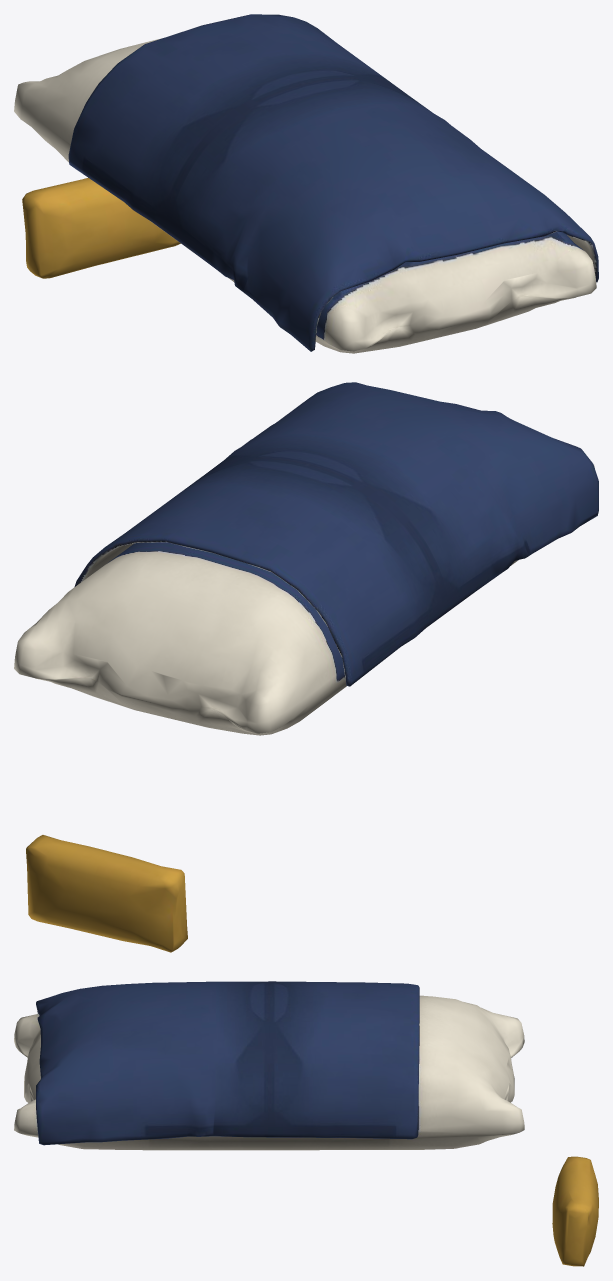
Rendered from futon_indigo.glb.
3 views of the same model, one above another, from view 1: azimuth 30°, elevation 25°; view 2: azimuth 150°, elevation 25°; view 3: azimuth 270°, elevation 25° (orthographic). The views are drawn at different scales.
Visible parts, largest first — view 1: prop_futon_indigo_felt; view 2: prop_futon_indigo_felt; view 3: prop_futon_indigo_felt.
Part boxes in pixels (x1=…): prop_futon_indigo_felt: x1=14, y1=14, x2=598, y2=353; prop_futon_indigo_felt: x1=14, y1=382, x2=598, y2=952; prop_futon_indigo_felt: x1=14, y1=981, x2=598, y2=1266.
Size of the model in its own units: 2 by 2.11 by 4.52.
1 material, 1 textured.
